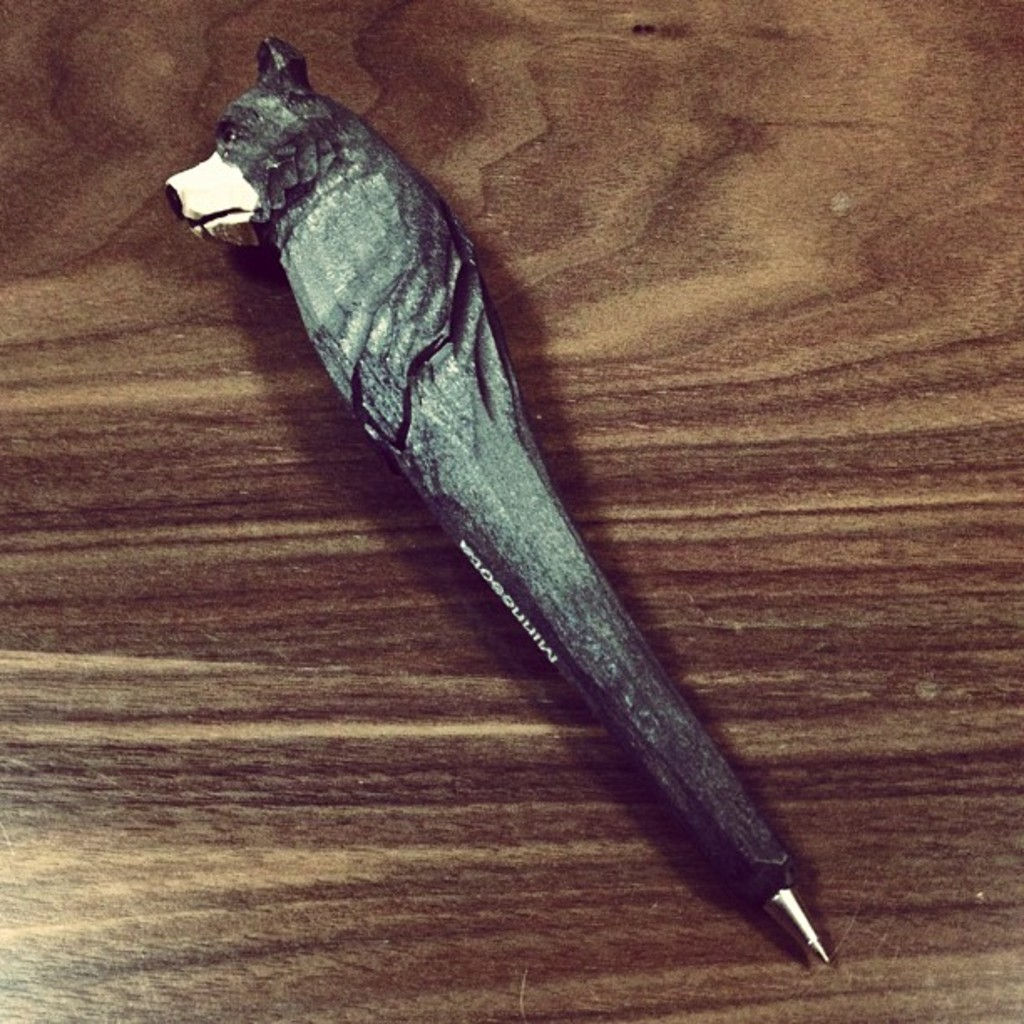Pen: (161, 33, 825, 977)
